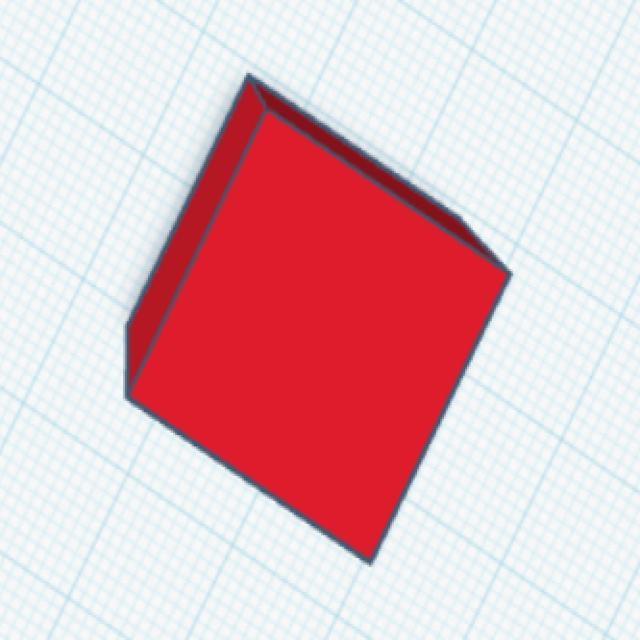cube: (121, 67, 516, 568)
